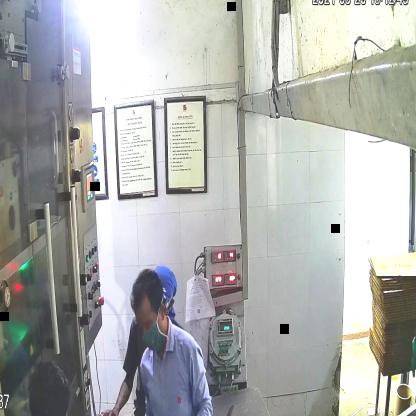no_goggles: (131, 307, 160, 334)
